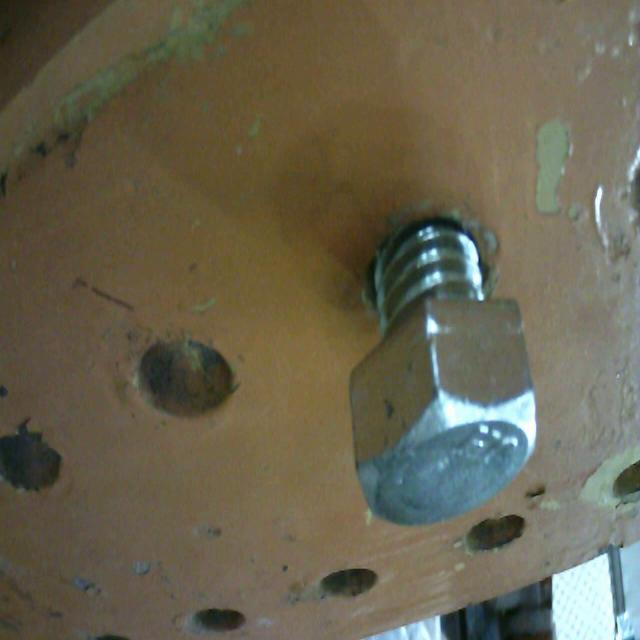Loose bolt: (349, 224, 539, 522)
Missing bolt: (137, 329, 236, 424), (1, 432, 67, 492), (468, 515, 525, 557), (322, 567, 381, 606), (196, 605, 249, 634), (613, 460, 640, 502)
Regular bolt: (354, 222, 542, 500)
